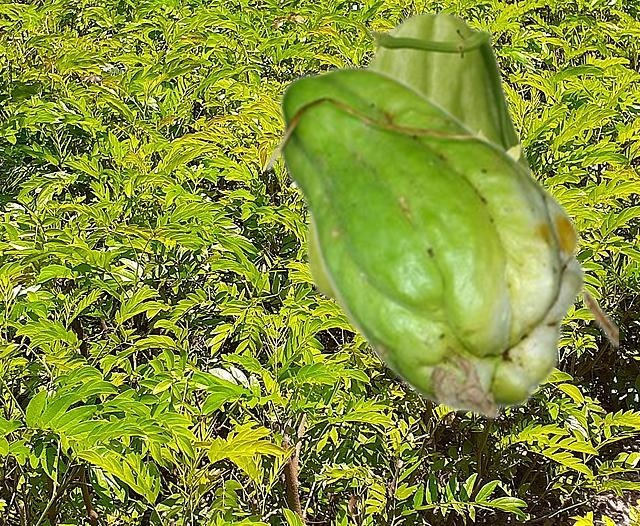sayote: (262, 64, 617, 419), (304, 11, 533, 335)
